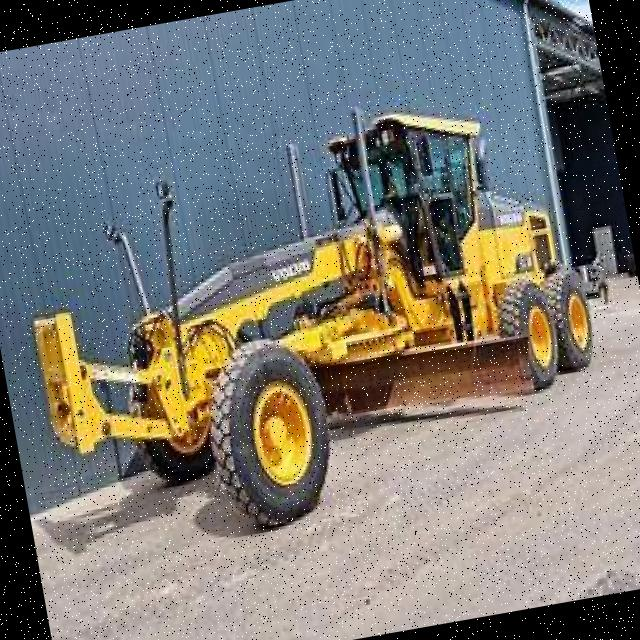Grader: (0, 68, 636, 569)
